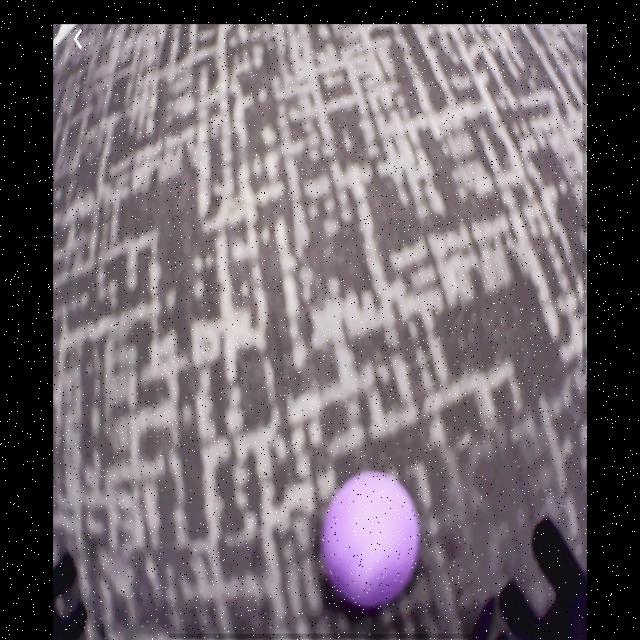ball: (321, 470, 421, 610)
